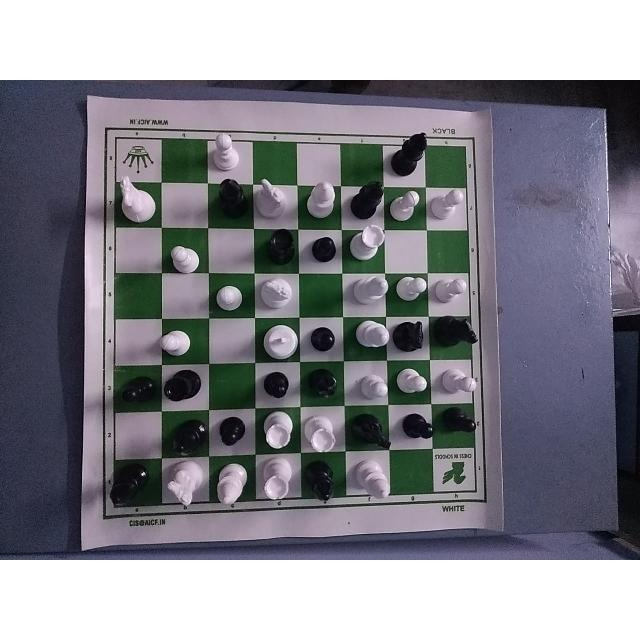black-bishop: (386, 125, 430, 180), (106, 462, 150, 515), (164, 416, 209, 460), (302, 456, 341, 506), (210, 177, 251, 221), (301, 366, 347, 404), (350, 175, 390, 217)
black-knight: (430, 316, 482, 355), (350, 412, 394, 450), (394, 317, 433, 357)
black-pawn: (304, 223, 346, 268), (113, 370, 159, 410), (218, 408, 252, 460), (260, 370, 301, 406), (446, 405, 482, 445), (405, 408, 439, 445), (308, 323, 342, 355)
black-rook: (158, 367, 209, 407), (260, 228, 300, 268)
white-bishop: (351, 461, 397, 508), (344, 273, 396, 311), (216, 460, 250, 508), (301, 181, 339, 221), (354, 321, 394, 357)
white-king: (261, 324, 308, 363)
white-knight: (111, 175, 163, 229), (161, 459, 209, 511), (254, 180, 299, 226), (257, 271, 299, 314)
white-pawn: (211, 271, 252, 314), (352, 364, 392, 406), (158, 327, 204, 360), (208, 134, 242, 177), (428, 185, 466, 223), (167, 241, 205, 277), (394, 363, 428, 402), (393, 270, 431, 304), (387, 190, 423, 225), (434, 366, 482, 392), (436, 274, 469, 309)
white-rook: (346, 224, 389, 267), (256, 410, 297, 453), (262, 464, 298, 509), (306, 412, 339, 458)
